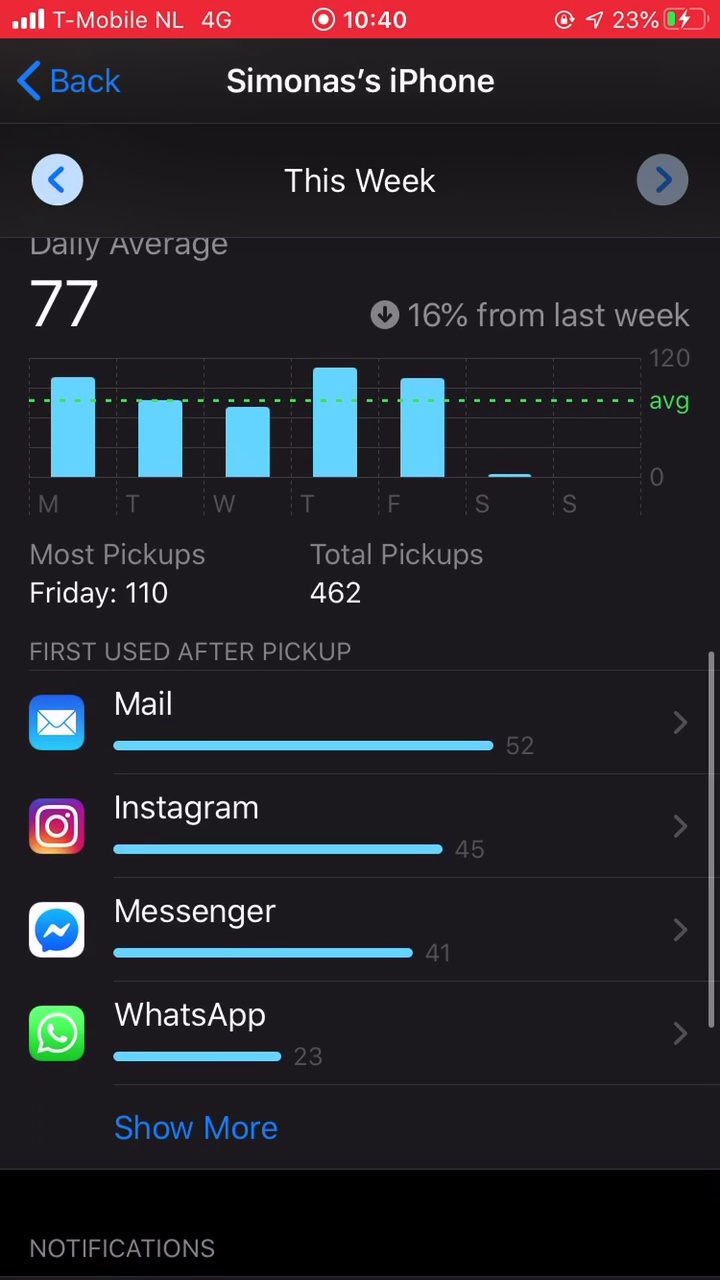pick_app: (18, 680, 523, 772), (17, 788, 501, 878), (21, 891, 506, 977), (12, 999, 361, 1082)
pick_over: (11, 533, 514, 625)
week: (277, 160, 454, 209)
